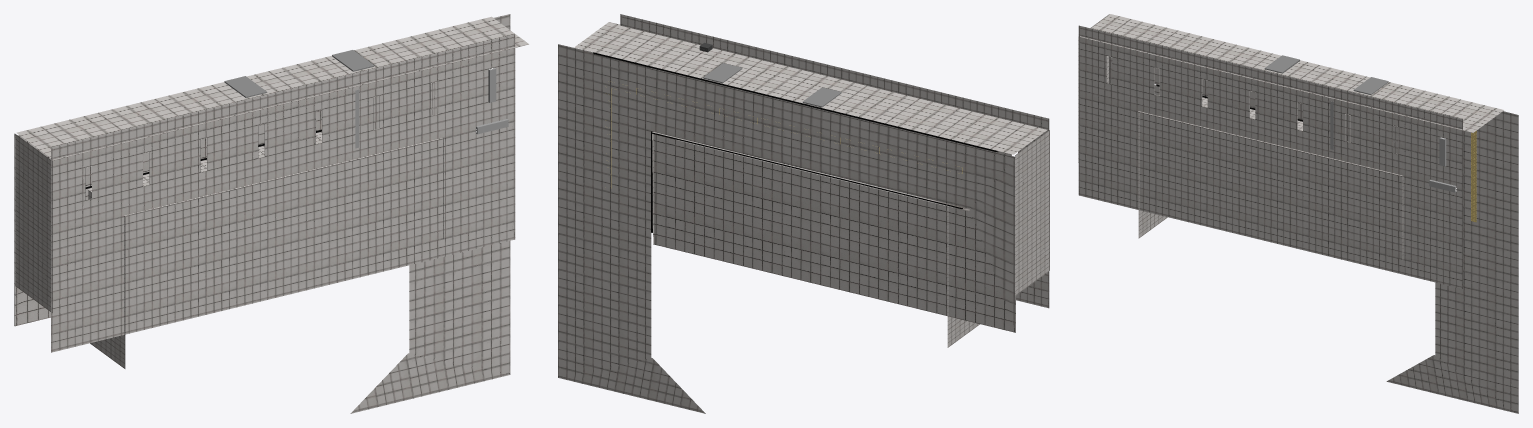
The model's file is 8th_exit.glb.
3 views of the same model, side by side, from view 1: azimuth 30°, elevation 25°; view 2: azimuth 150°, elevation 25°; view 3: azimuth 330°, elevation 25° (orthographic). The views are drawn at different scales.
Parts seen in each view (by area): view 1: wall.001, wall, wall.002, wall.004, wall.003, wall.005, doorknob.001, doorknob; view 2: wall, wall.002, wall.001, wall.004, Plane.018, wall.005, Plane, doorknob.001, doorknob; view 3: wall.001, wall, wall.002, wall.003, wall.005, Cylinder.001.
Part boxes in pixels (left/top/right/bottom): wall.001: left=51, top=34, right=515, bottom=352; wall: left=14, top=14, right=510, bottom=413; wall.002: left=16, top=16, right=528, bottom=160; wall.004: left=14, top=133, right=52, bottom=312; wall.003: left=88, top=132, right=443, bottom=239; wall.005: left=88, top=190, right=125, bottom=368; doorknob.001: left=224, top=76, right=266, bottom=97; doorknob: left=332, top=50, right=374, bottom=71; wall: left=558, top=44, right=1015, bottom=413; wall.002: left=574, top=22, right=1046, bottom=154; wall.001: left=620, top=14, right=1049, bottom=308; wall.004: left=1015, top=130, right=1049, bottom=295; Plane.018: left=593, top=52, right=997, bottom=152; wall.005: left=947, top=207, right=979, bottom=347; Plane: left=652, top=132, right=962, bottom=208; doorknob.001: left=802, top=87, right=841, bottom=107; doorknob: left=703, top=63, right=742, bottom=83; wall.001: left=1078, top=25, right=1462, bottom=288; wall: left=1109, top=56, right=1518, bottom=413; wall.002: left=1079, top=14, right=1503, bottom=132; wall.003: left=1138, top=97, right=1403, bottom=259; wall.005: left=1138, top=112, right=1167, bottom=238; Cylinder.001: left=1471, top=132, right=1476, bottom=222.
Bounding box in the file's own units: 17.99 × 13 × 2.44.
9 materials, 2 textured.
